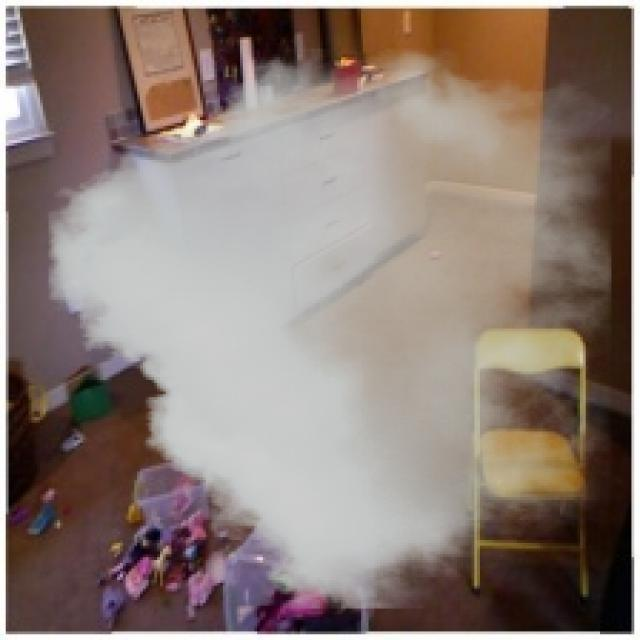Smoke: (49, 49, 612, 608)
